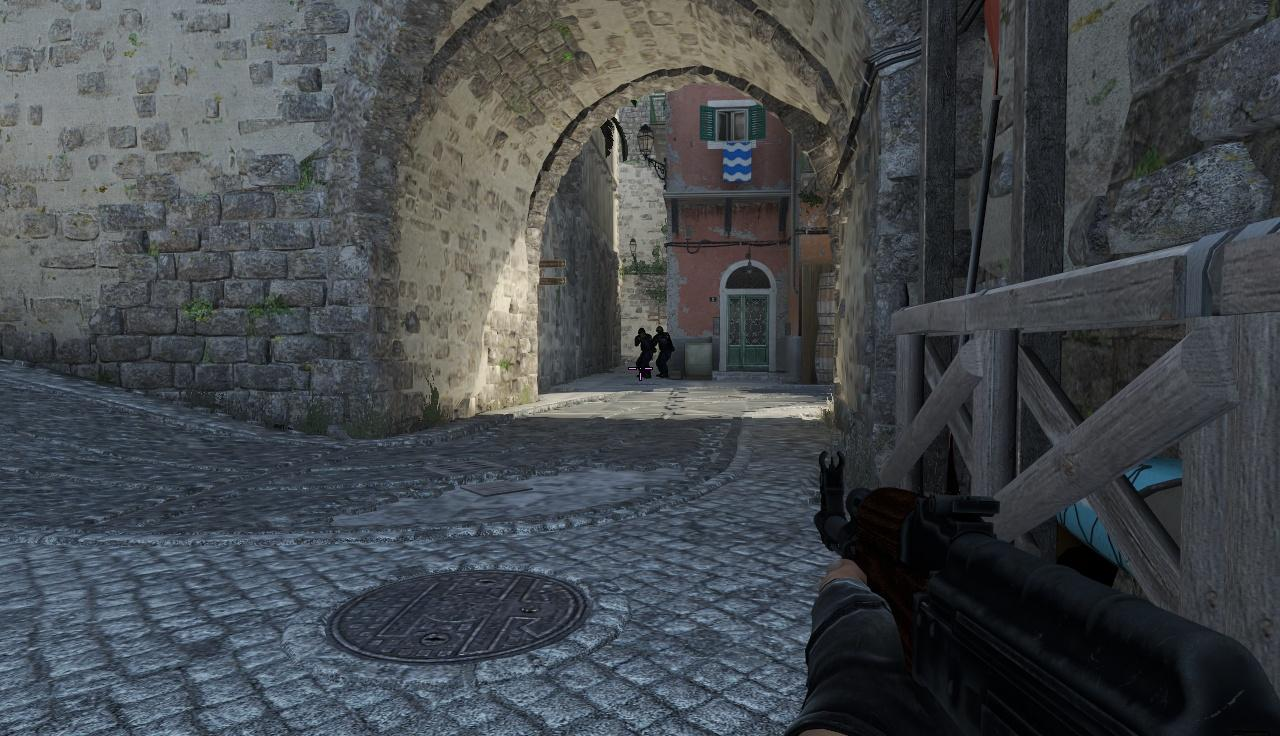ct: (636, 327, 656, 379), (653, 327, 671, 379)
cthead: (655, 326, 665, 336), (640, 327, 648, 338)
rifle: (811, 445, 1280, 732)
